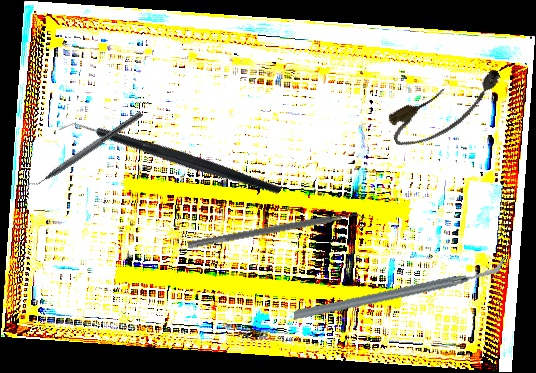Cannula: (382, 61, 513, 156)
Chopper: (56, 56, 284, 264), (292, 218, 507, 359), (23, 103, 144, 194)
Spatula Surgical: (187, 206, 368, 258)
